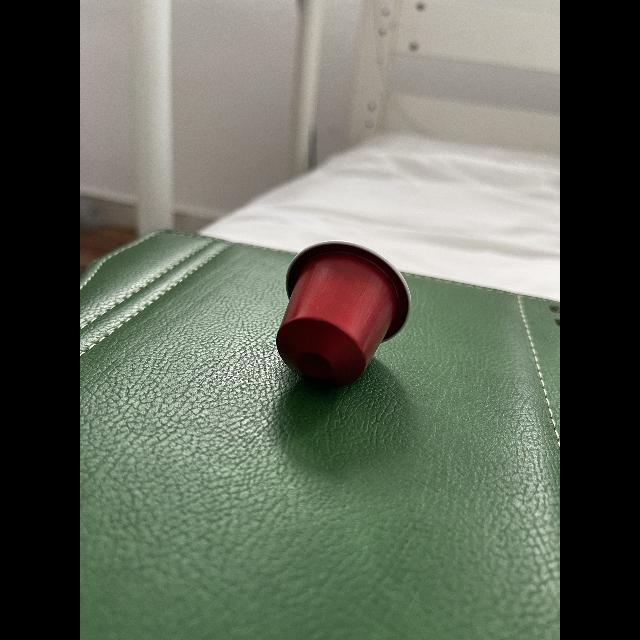intact_capsule: (258, 230, 422, 400)
